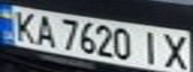0: (112, 25, 136, 61)
2: (93, 21, 115, 59)
6: (75, 19, 96, 55)
7: (54, 17, 81, 52)
A: (30, 12, 60, 47)
I: (136, 28, 163, 65)
K: (6, 8, 42, 43)
X: (157, 30, 193, 71)
